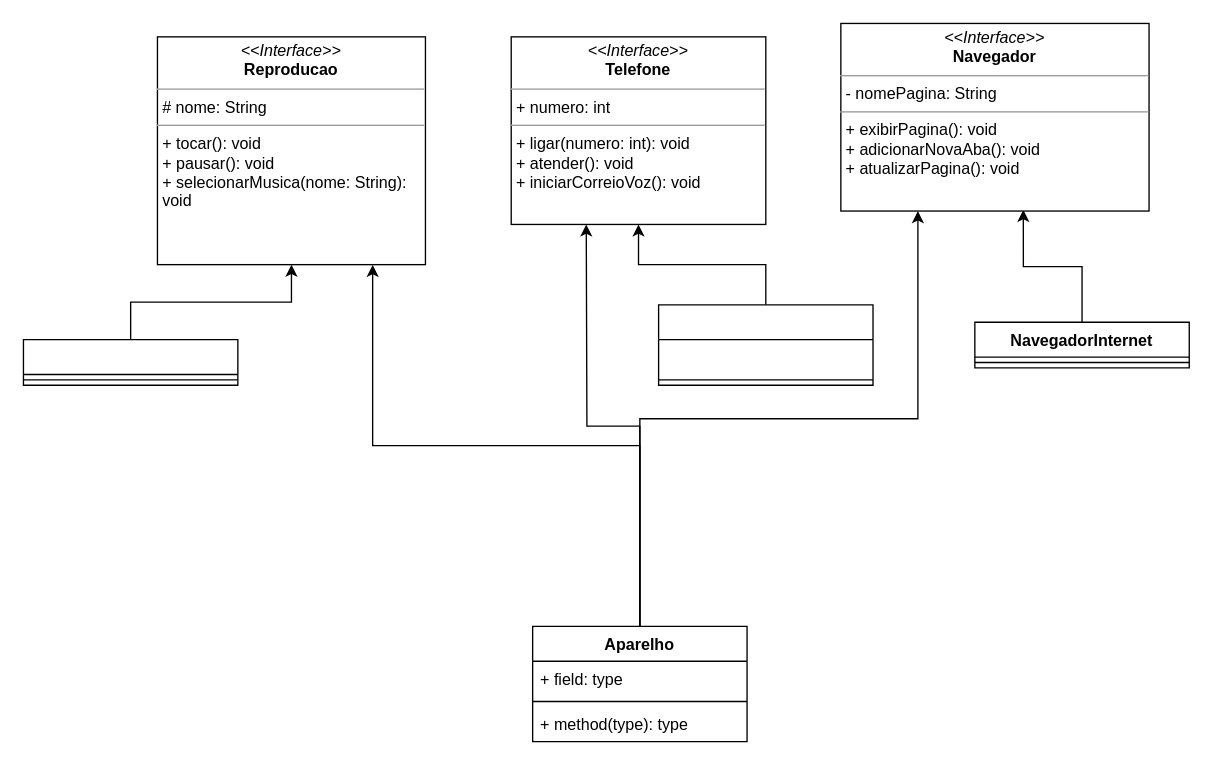
This 1213x769 diagram has some shape labels left out. The centre of each missing label's shape, as x and y in pixels:
"AparelhoTelefonico" goes at (x=765, y=344).
"ReprodutorMusical" goes at (x=130, y=361).
